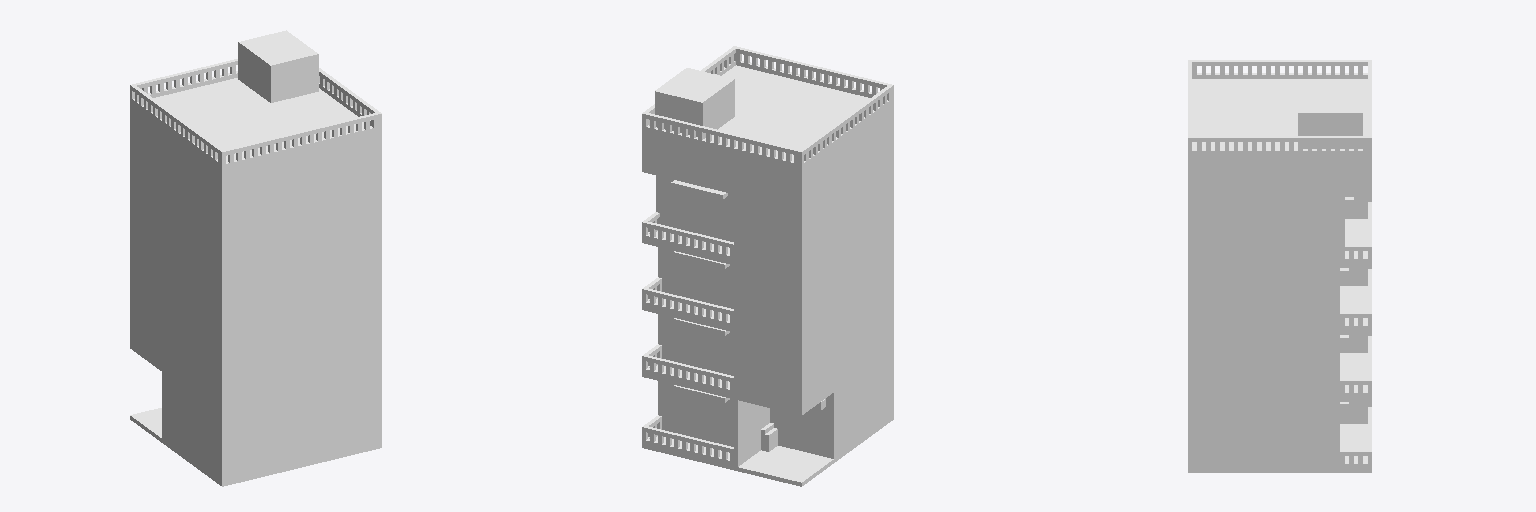
The model's file is buill.obj.
The picture shows the model from 3 angles: view 1: azimuth 30°, elevation 25°; view 2: azimuth 150°, elevation 25°; view 3: azimuth 270°, elevation 25°; orthographic projection.
Visible parts, largest first — view 1: object 1; view 2: object 1; view 3: object 1.
Boxes of the visible parts, box(x1,y1,x2,y2) form: object 1: box(130, 30, 381, 486); object 1: box(642, 46, 893, 486); object 1: box(1188, 60, 1371, 472).
Bounding box in the file's own units: 4 × 8.5 × 4.